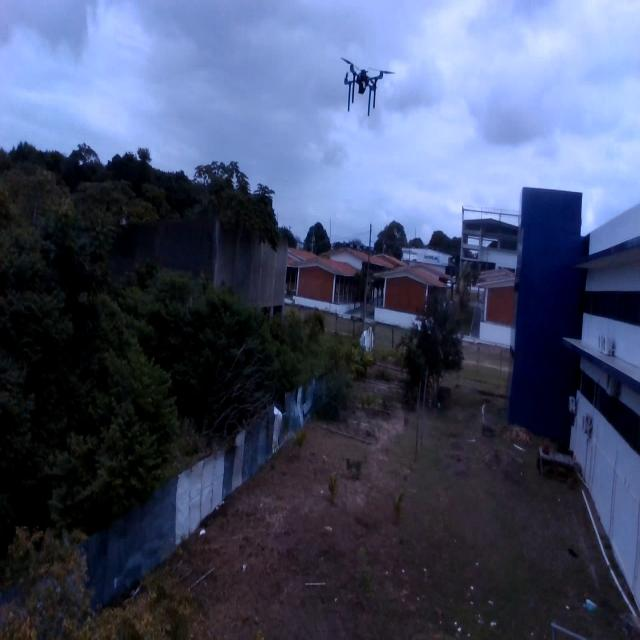-uav-: (336, 41, 401, 130)
